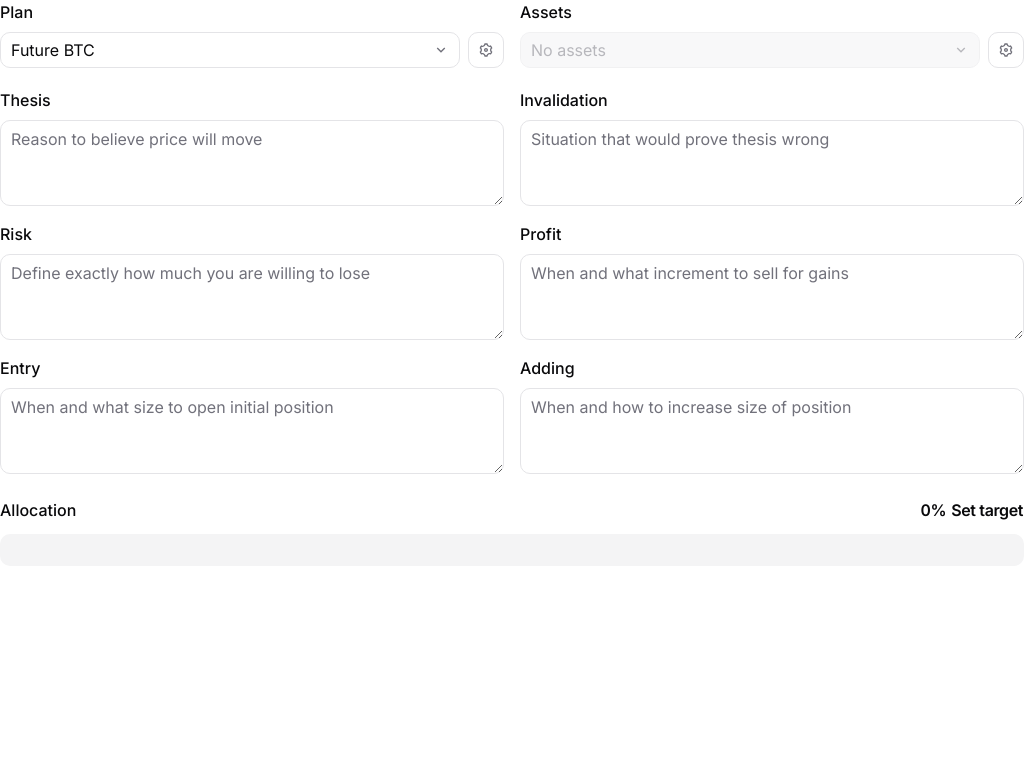
PlansEditor › the Plan switcher › adds a ticker the portfolio doesn't hold
Click the button named "Asset settings": coordinates (1006, 50) [988,32,1023,68]
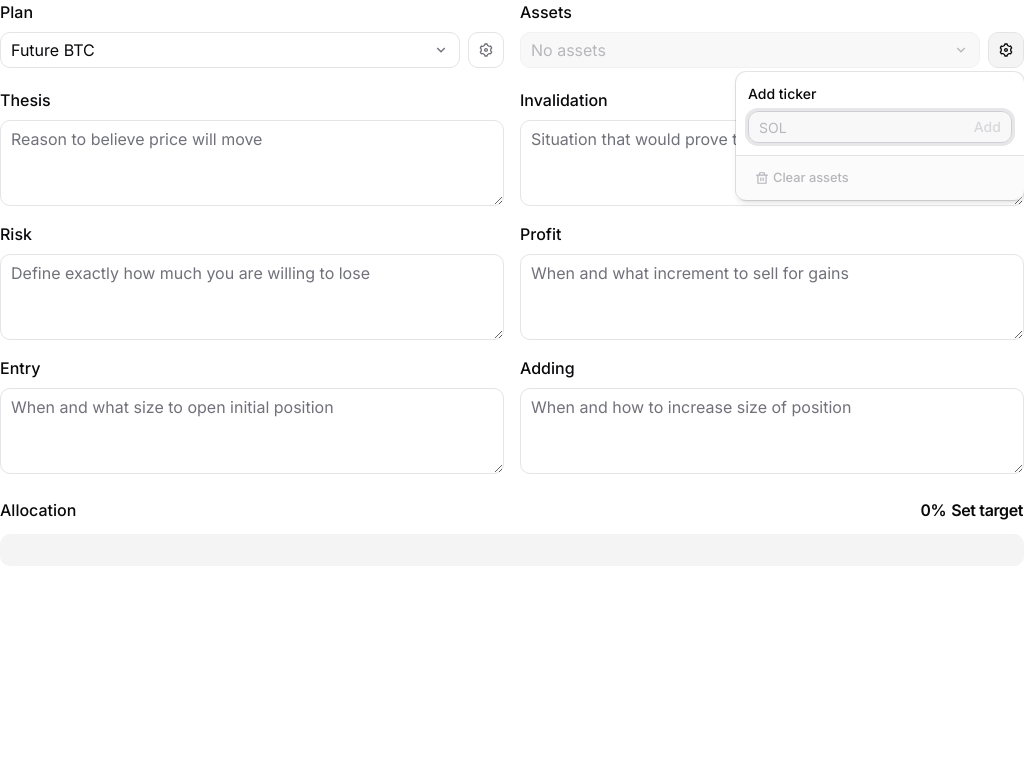
In the field labelled "Add ticker": coordinates (858, 127) [749,111,967,143], type "sol"
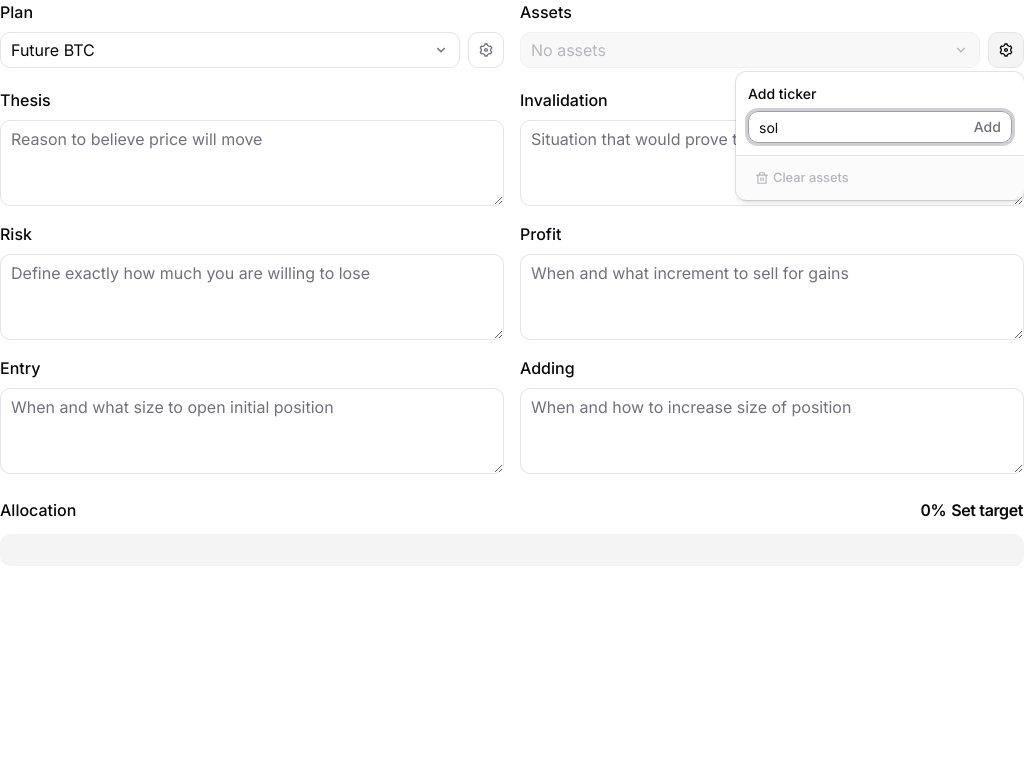
Click the button "Add": coordinates (987, 127) [967,115,1008,139]
Wait 1000 ms
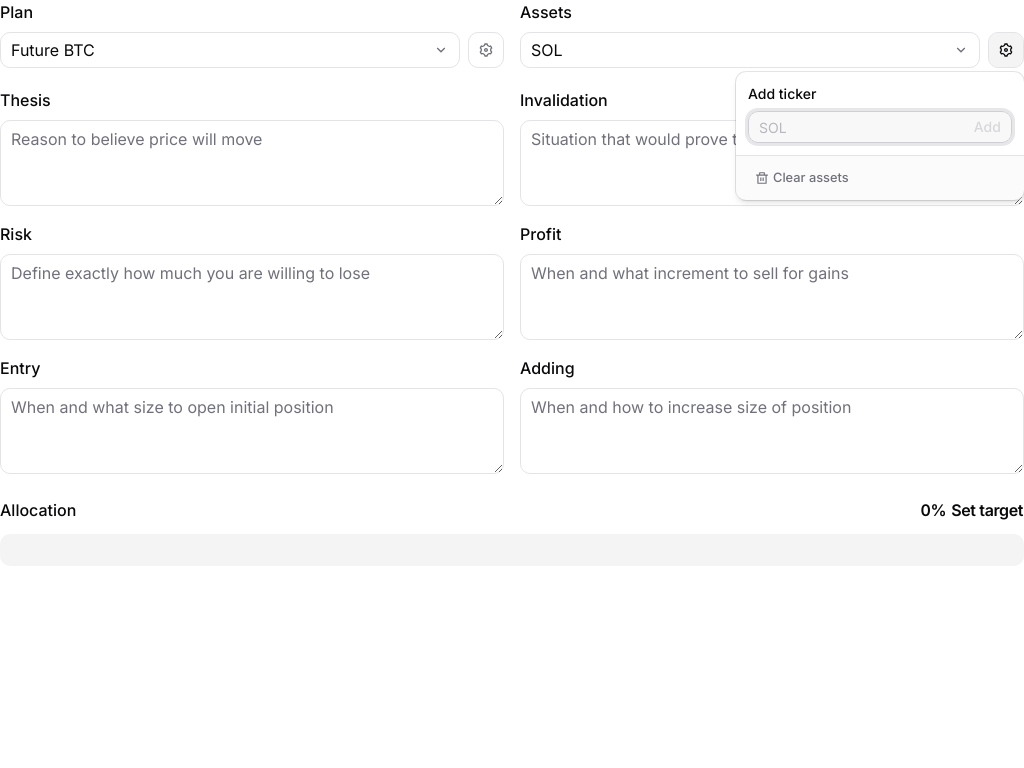
Expected: the button named "Assets" reads "SOL", [520,32,980,68]
